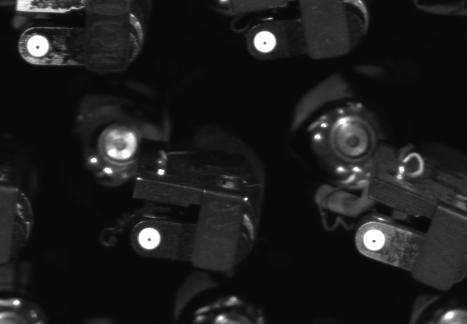fiber: (134, 224, 166, 255), (24, 33, 56, 60), (361, 227, 391, 254), (250, 29, 281, 55)
